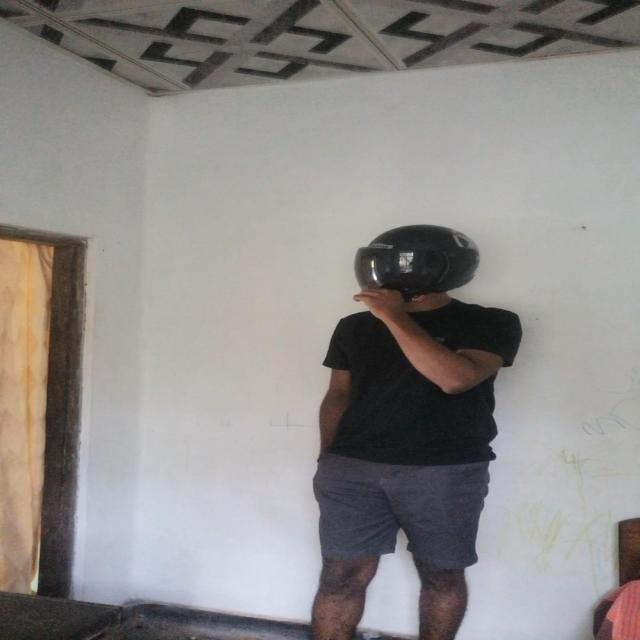Helmet_Wearer: (338, 215, 501, 321)
Person: (296, 214, 507, 633)
